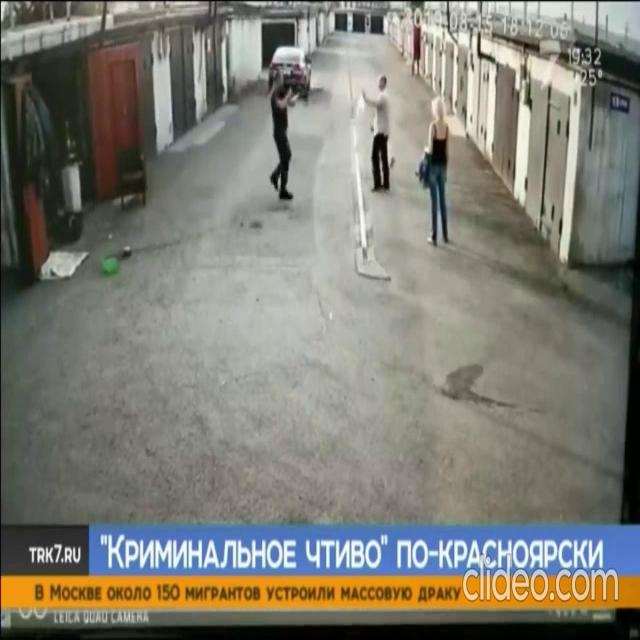gun: (268, 66, 321, 200), (423, 94, 451, 251), (361, 74, 391, 193), (283, 76, 321, 102)
